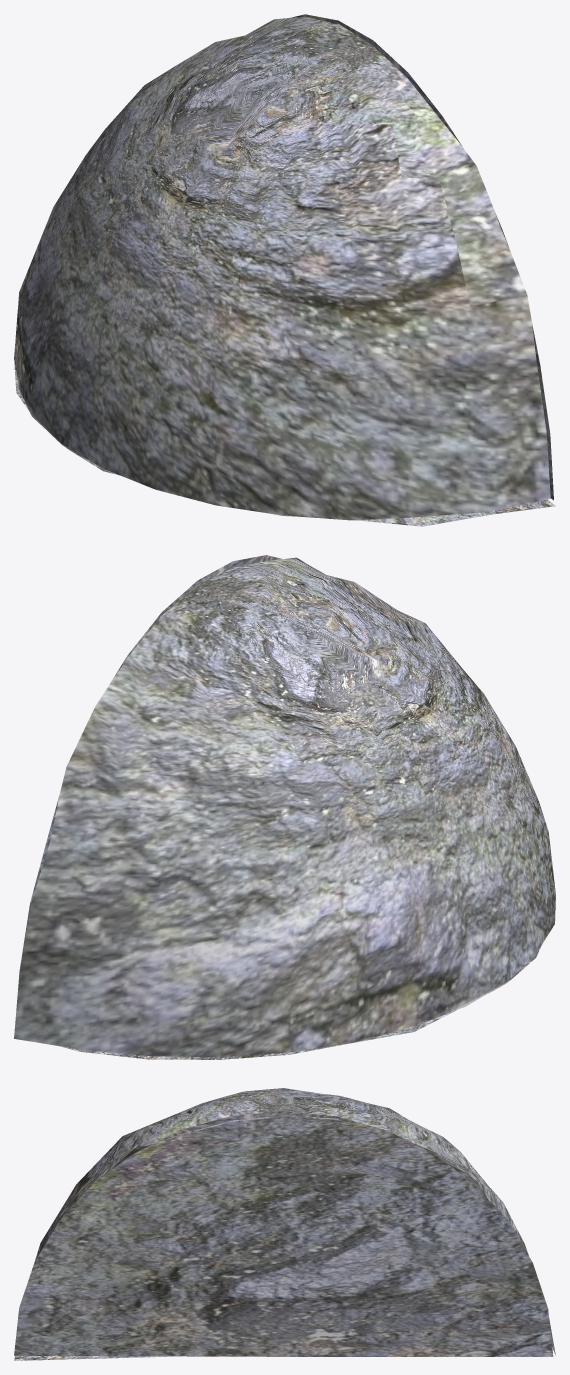
Rendered from RockSemiCircle.fbx.
3 views of the same model, one above another, from view 1: azimuth 30°, elevation 25°; view 2: azimuth 150°, elevation 25°; view 3: azimuth 270°, elevation 25° (orthographic). The views are drawn at different scales.
Visible parts, largest first — view 1: Circle; view 2: Circle; view 3: Circle.
Part boxes in pixels (x1=…): Circle: x1=14, y1=14, x2=555, y2=526; Circle: x1=14, y1=555, x2=555, y2=1059; Circle: x1=14, y1=1088, x2=555, y2=1360.
Bounding box in the file's own units: 3.01 × 3.07 × 6.03.
